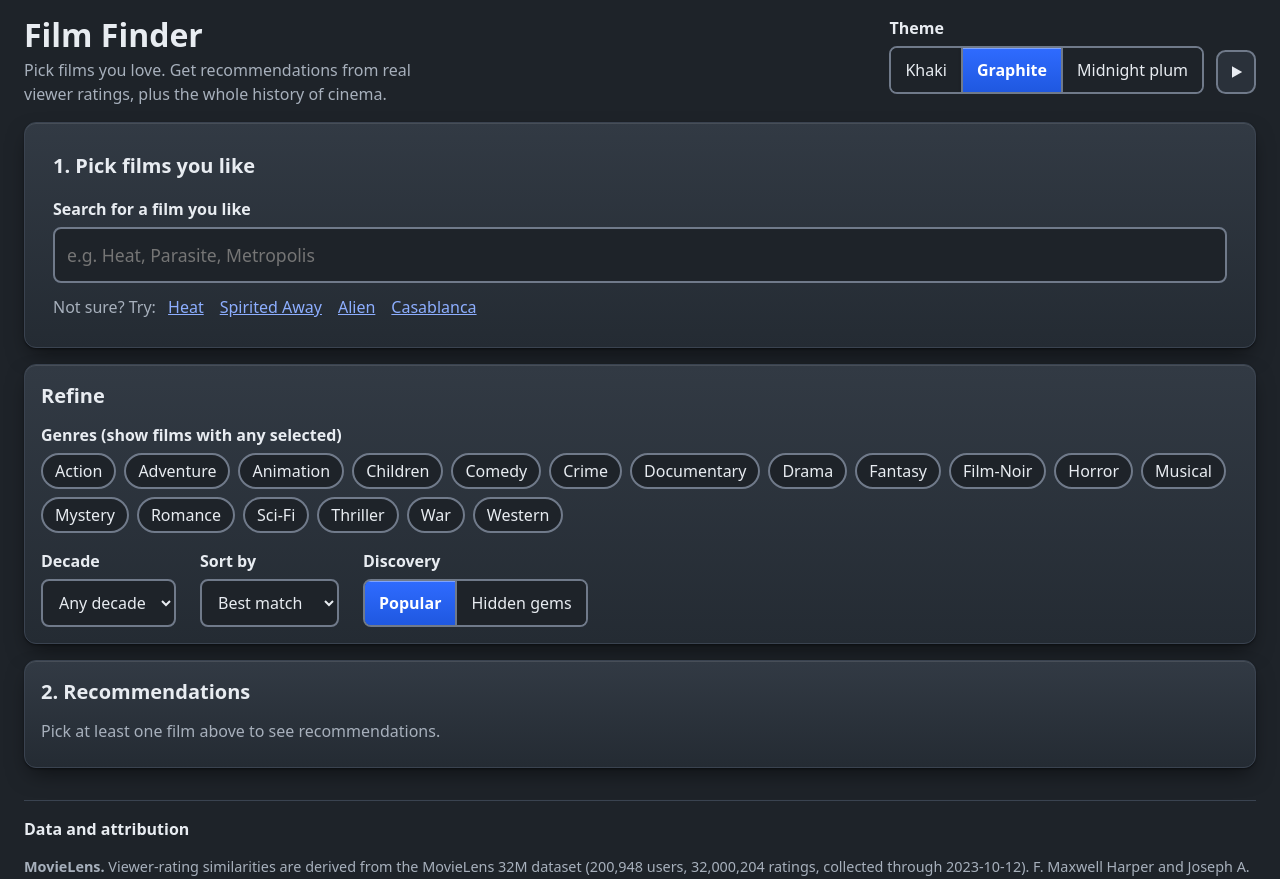
Test: App › does not crash when typing before clicking anything (old bug)
The image size is (1280, 879).
Later steps or results of the test are not shown.
Type "zzzz" into the dropdown labelled "Search for a film you like" at (640,255), box [53, 227, 1227, 283]
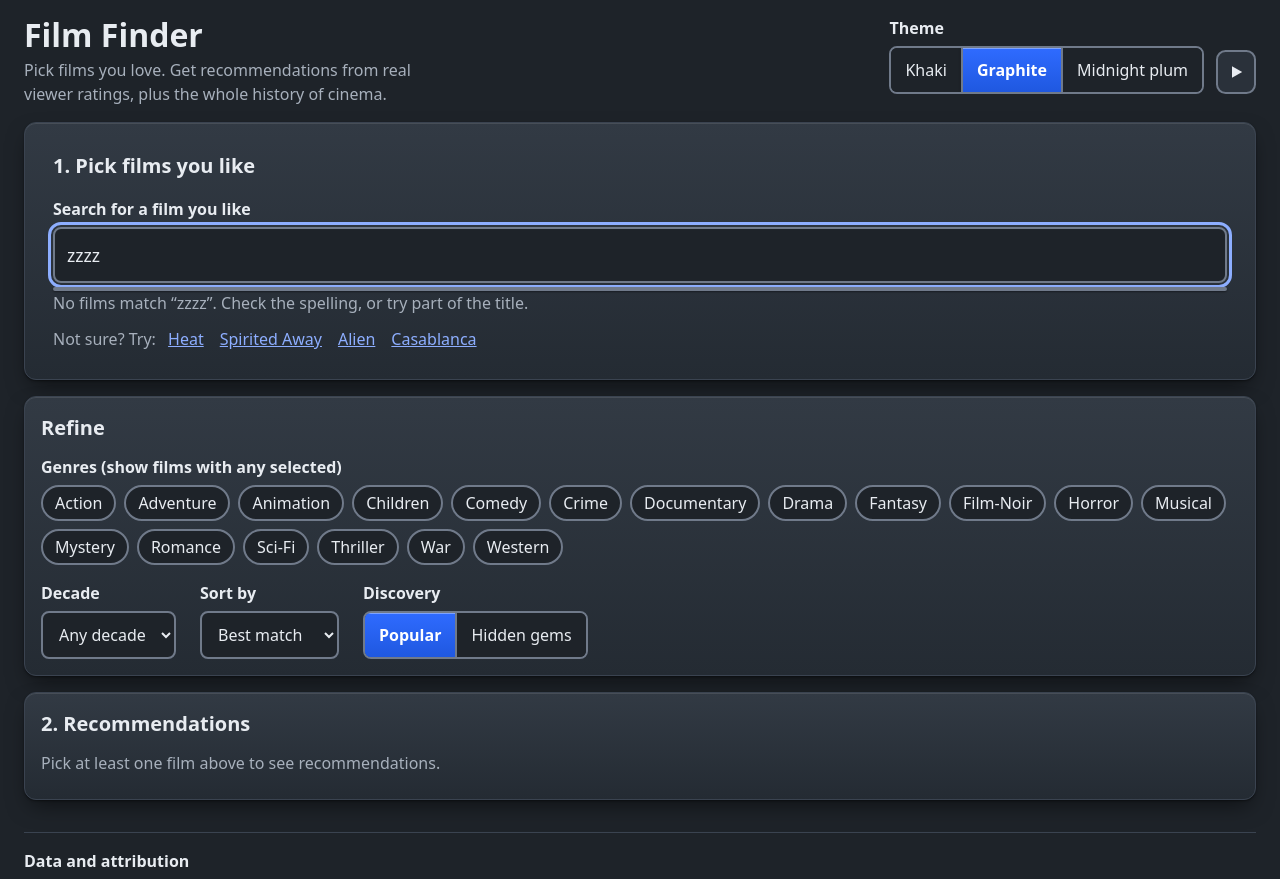
Check: the text with test id "no-matches" is shown, box [53, 292, 528, 314]
